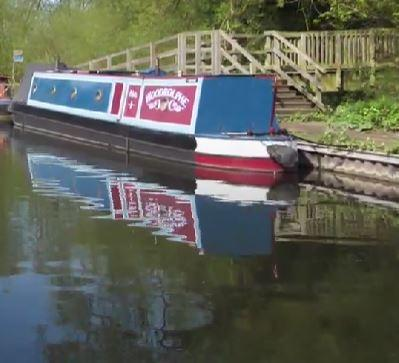Ship: (7, 54, 307, 184)
